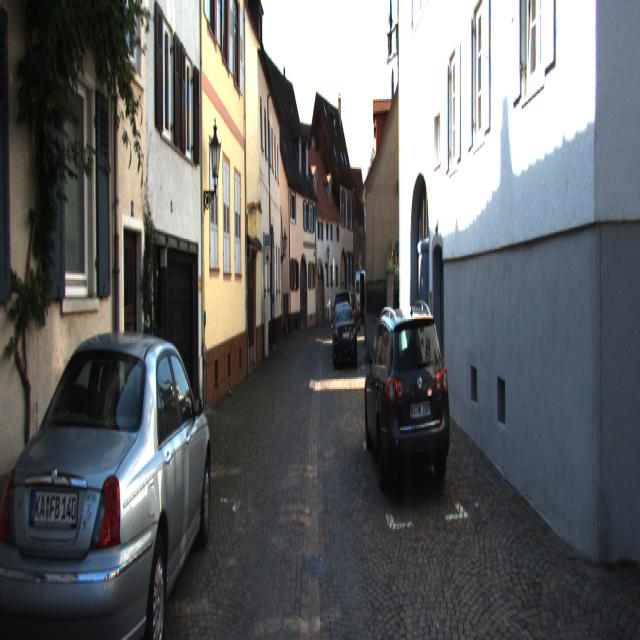Car: (0, 320, 215, 639), (363, 298, 451, 504), (333, 300, 356, 366), (354, 269, 376, 323)
